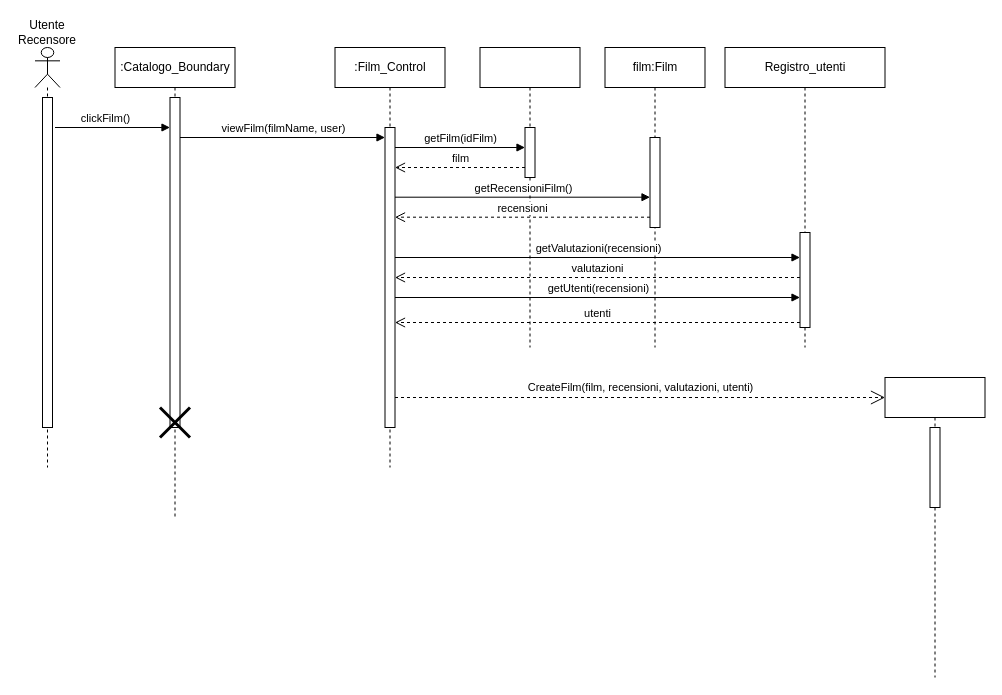
The diagram is 1002 pixels wide and 695 high, and some of its shapes have lost their labels. The shapes that lost their labels are listed below. From the top down, each one's box as (x1, y1, x2, y2) in pixels, then its label:
(479, 46, 580, 348): :Catalogo
(884, 376, 985, 678): :Film_Boundary
